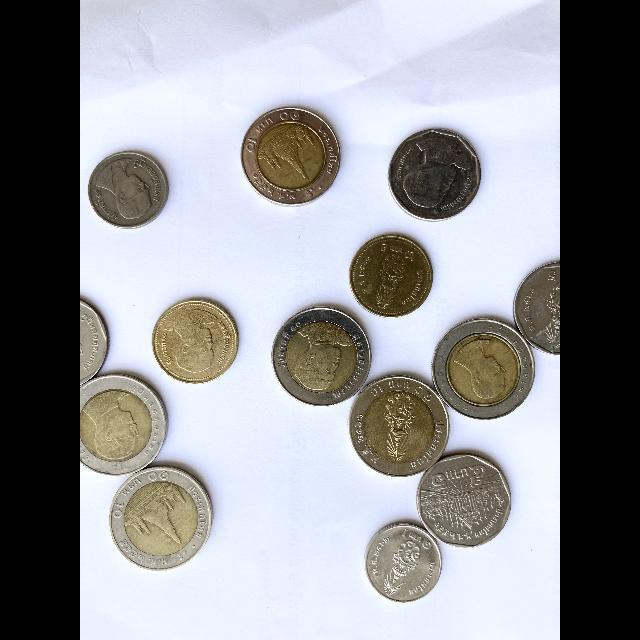1 Bath: (87, 150, 172, 232), (366, 523, 444, 604)
10 Bath: (107, 466, 214, 573), (239, 103, 345, 209), (347, 374, 451, 478), (431, 317, 537, 418), (273, 304, 373, 408), (83, 374, 169, 477)
2 Bath: (153, 297, 242, 387)
5 Bath: (415, 453, 515, 549), (388, 130, 484, 220), (514, 259, 563, 356), (75, 297, 113, 387)
